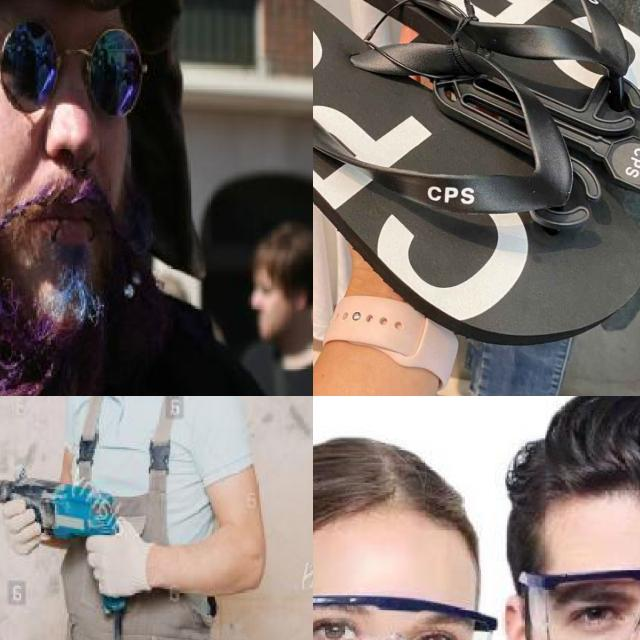Sandals: (313, 0, 640, 376)
face_nomask: (0, 24, 139, 278)
glasses: (0, 20, 156, 140), (519, 563, 640, 640), (313, 595, 498, 640)
hand_glove: (81, 516, 163, 602), (0, 494, 49, 558)
head_nohelmet: (313, 433, 472, 547), (521, 396, 640, 525)
person: (0, 396, 262, 640)
